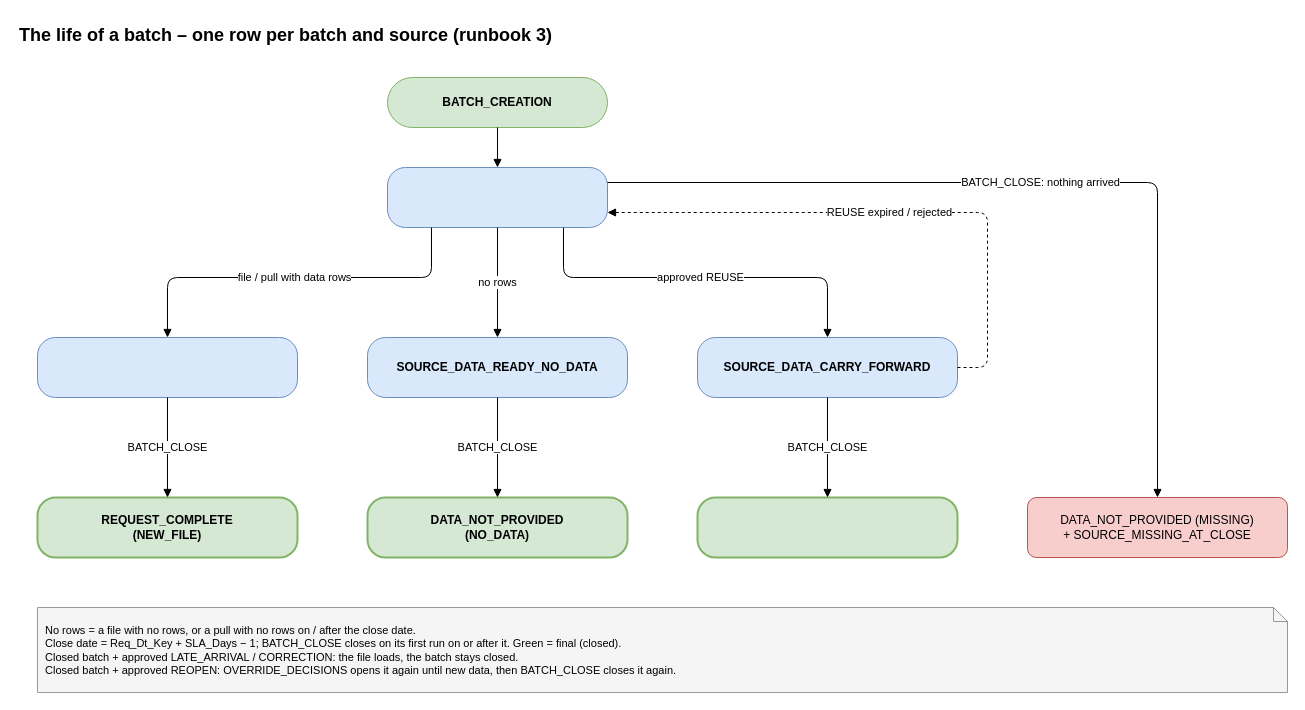
Some shapes in this 1305 by 710 pixel diagram are drawn without their labels. The box of each missing label's shape, as (x1, y1, x2, y2) in pixels:
REQUEST_COMPLETE (CARRY_FORWARD): (696, 496, 958, 558)
REQUEST_CREATED: (386, 166, 608, 228)
SOURCE_DATA_READY: (36, 336, 298, 398)
